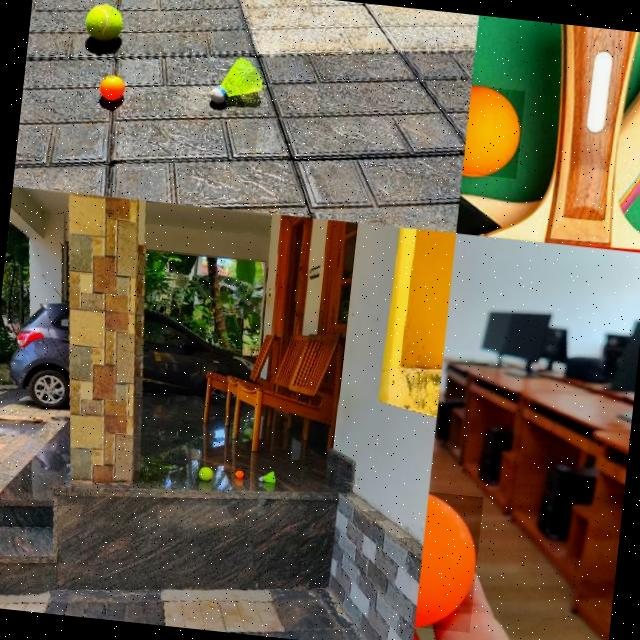ping-pong-ball: (416, 490, 484, 634), (462, 84, 524, 181), (98, 74, 125, 100), (236, 469, 244, 478)
